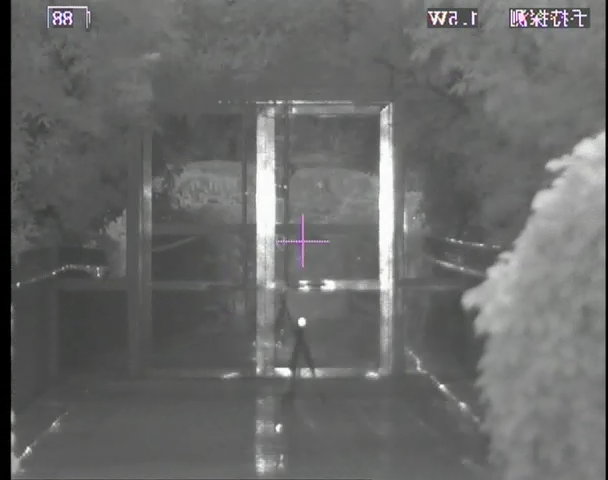my: (296, 316, 307, 327)
